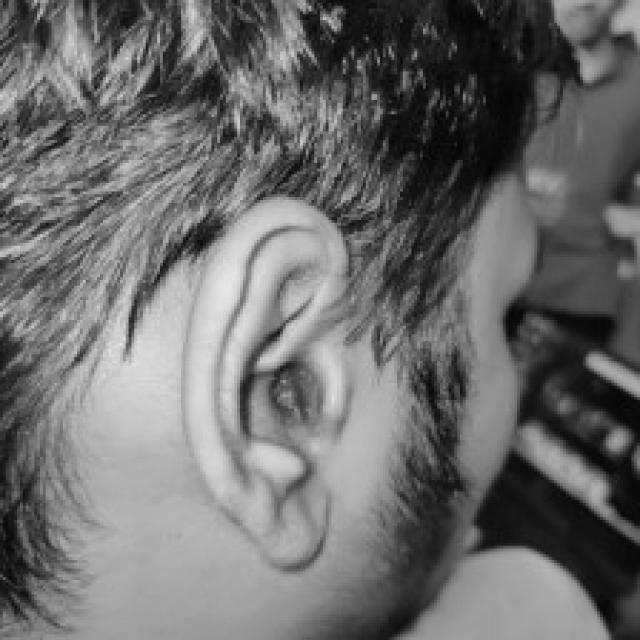ear: (180, 200, 346, 566)
